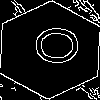O: (25, 25, 79, 66)
